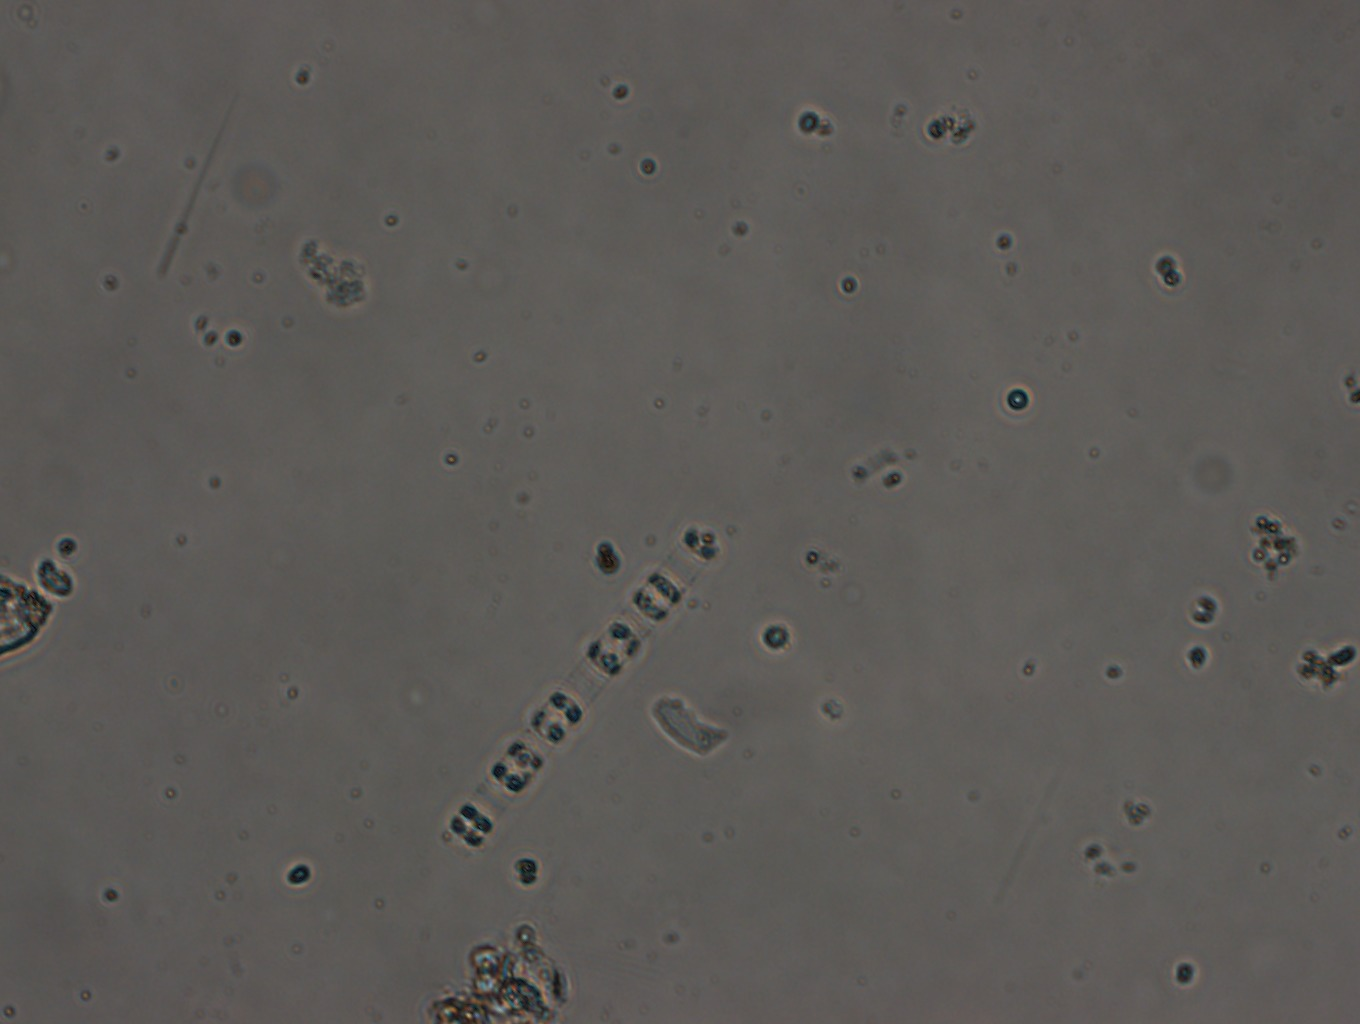skeletonema: (447, 563, 693, 858)
